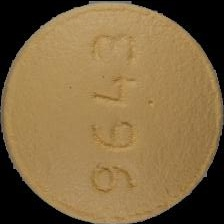50090-0109: (0, 0, 224, 224)
